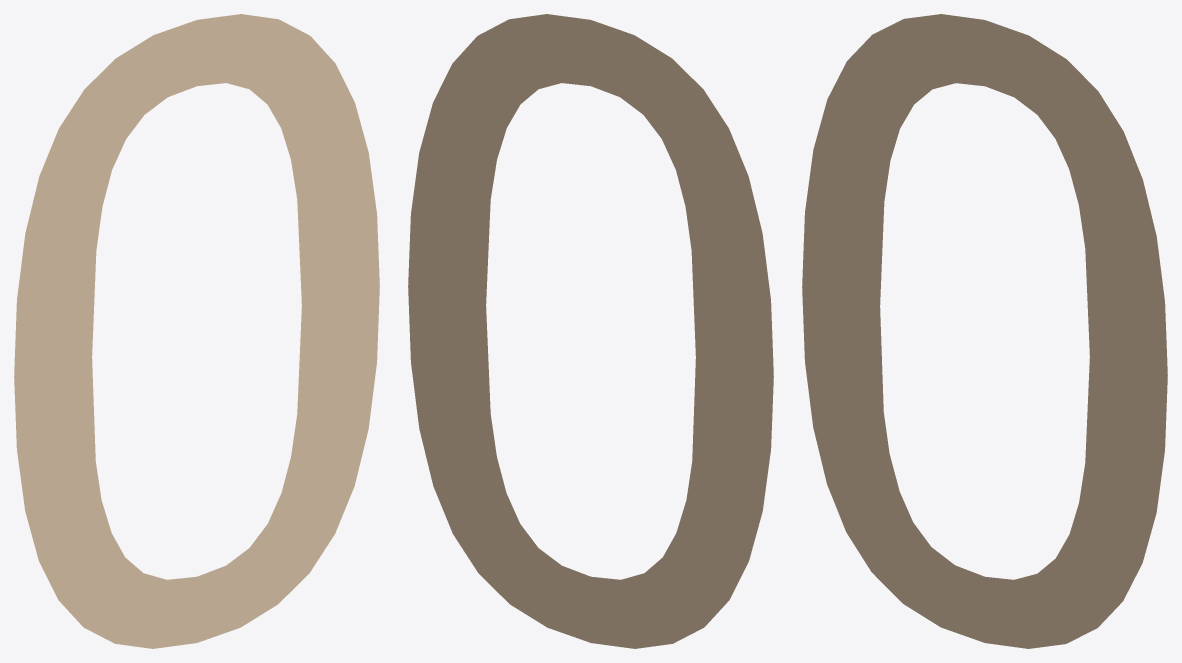
The model's file is original-2.obj.
3 renders of one model, left to right at view 1: azimuth 30°, elevation 25°; view 2: azimuth 150°, elevation 25°; view 3: azimuth 330°, elevation 25°, orthographic.
Parts seen in each view (by area): view 1: mesh1/mesh1-geometry#mesh1-geometry; view 2: mesh1/mesh1-geometry#mesh1-geometry; view 3: mesh1/mesh1-geometry#mesh1-geometry.
Boxes of the visible parts, <box> form: mesh1/mesh1-geometry#mesh1-geometry: <box>14,14,379,648</box>; mesh1/mesh1-geometry#mesh1-geometry: <box>408,14,773,648</box>; mesh1/mesh1-geometry#mesh1-geometry: <box>802,14,1167,648</box>.
Bounding box in the file's own units: 0.0121 × 0.0198 × 0.
